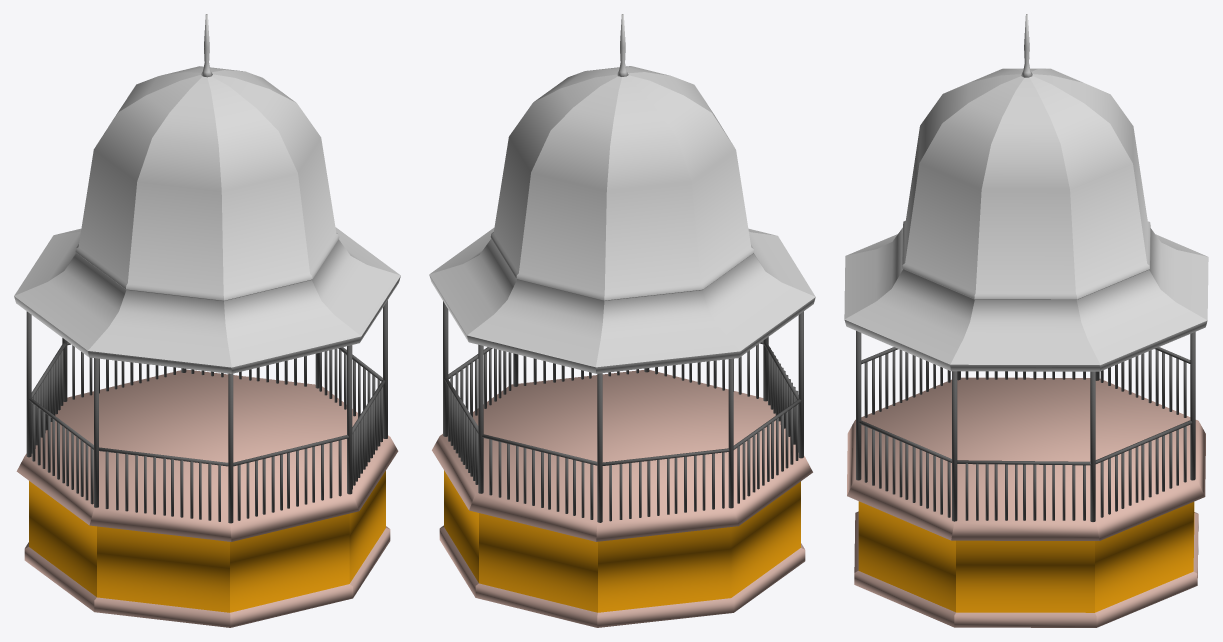
File: AntonioCenarioFase1.fbx_Coreto.fbx
3 renders of one model, left to right at view 1: azimuth 30°, elevation 25°; view 2: azimuth 150°, elevation 25°; view 3: azimuth 270°, elevation 25°, orthographic.
Parts seen in each view (by area): view 1: Coreto; view 2: Coreto; view 3: Coreto.
Part boxes in pixels (<box>): Coreto: <box>14,14,400,627</box>; Coreto: <box>429,14,815,627</box>; Coreto: <box>844,14,1208,627</box>.
Size of the model in its own units: 947 by 1551 by 947.
